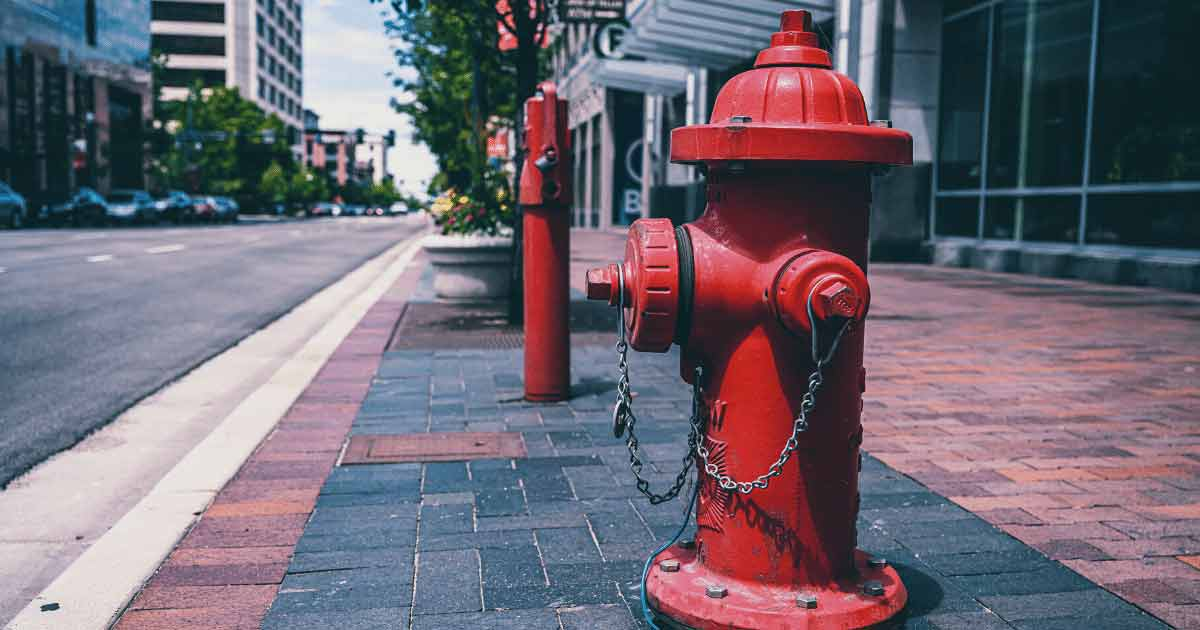firehdyrant: (577, 1, 962, 630)
